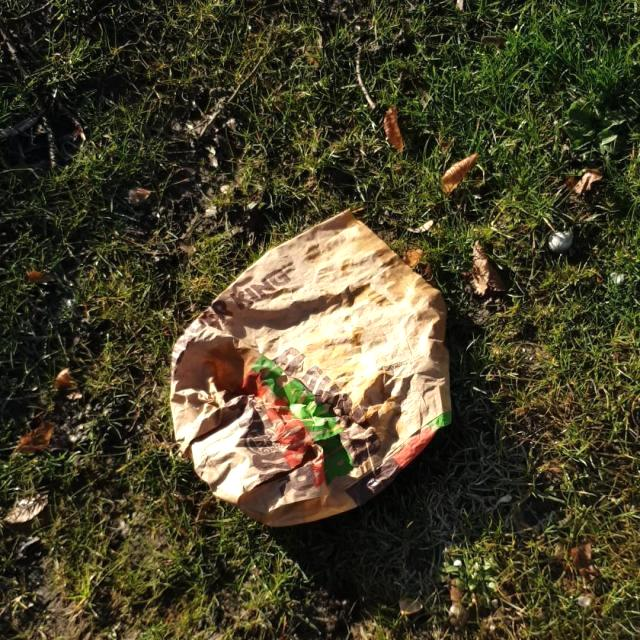Paper: (167, 204, 456, 532)
